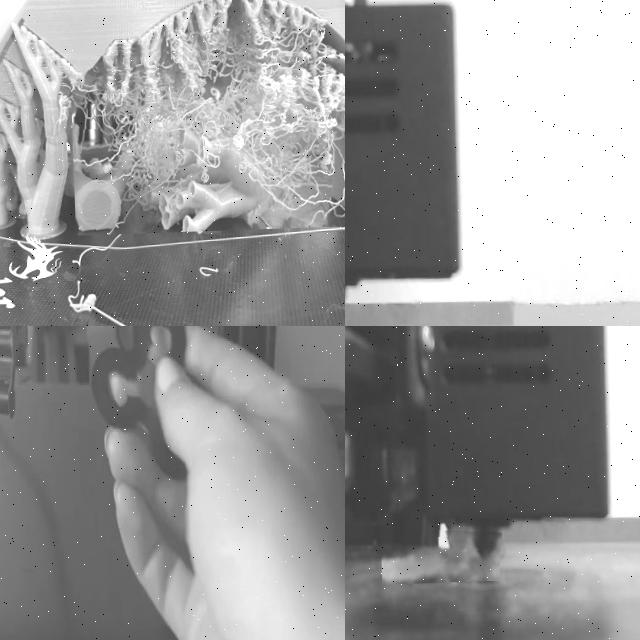spaghetti: (69, 37, 345, 235), (0, 285, 185, 326), (381, 530, 501, 584)
